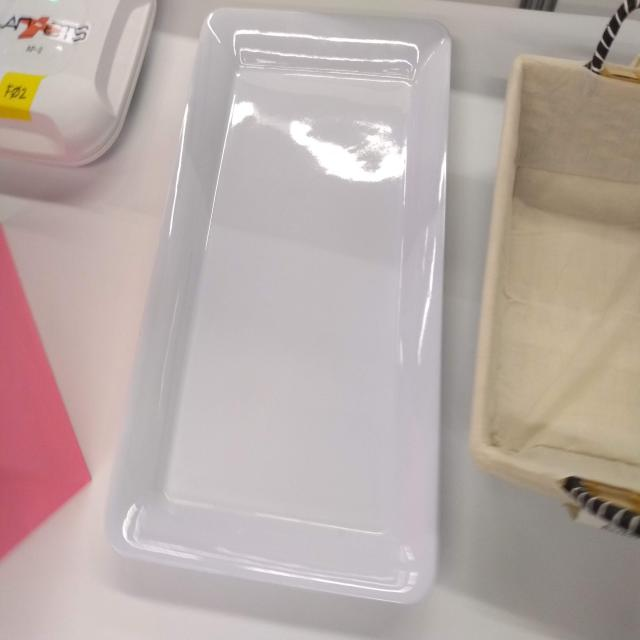basket: (475, 2, 640, 538)
tray: (99, 2, 475, 611)
